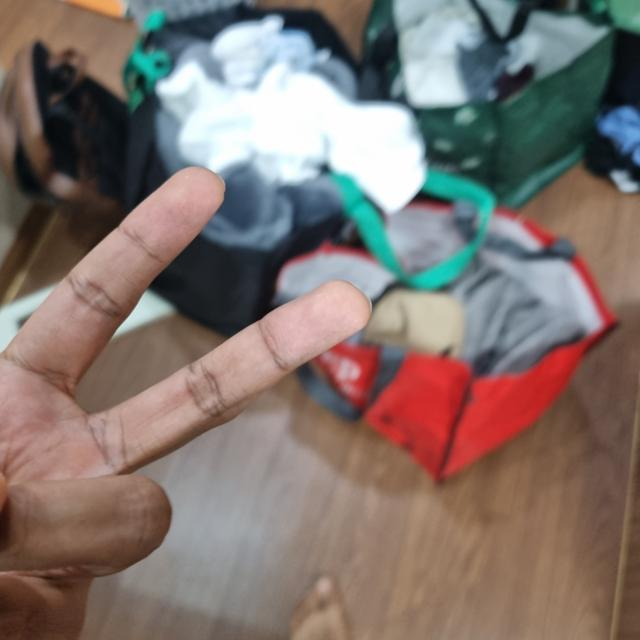Scissors: (0, 341, 170, 639)
